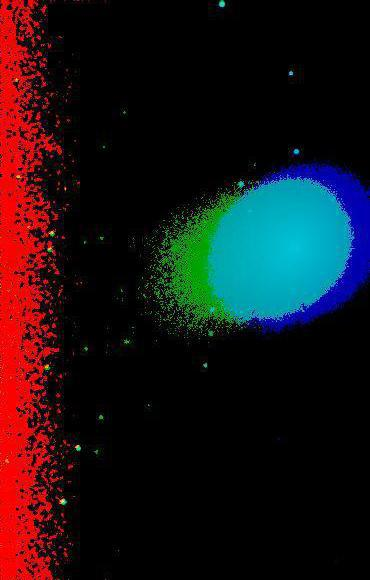star: (209, 187, 239, 217)
